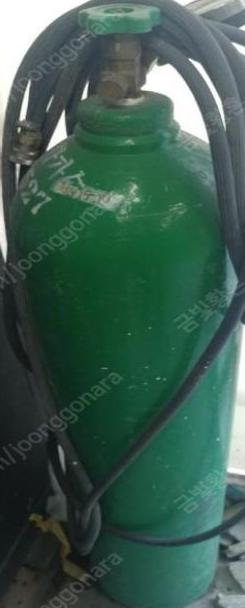cylinder: (1, 0, 245, 608)
